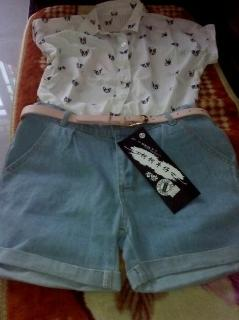short sleeve top: (32, 0, 219, 161)
shorts: (0, 102, 239, 293)
